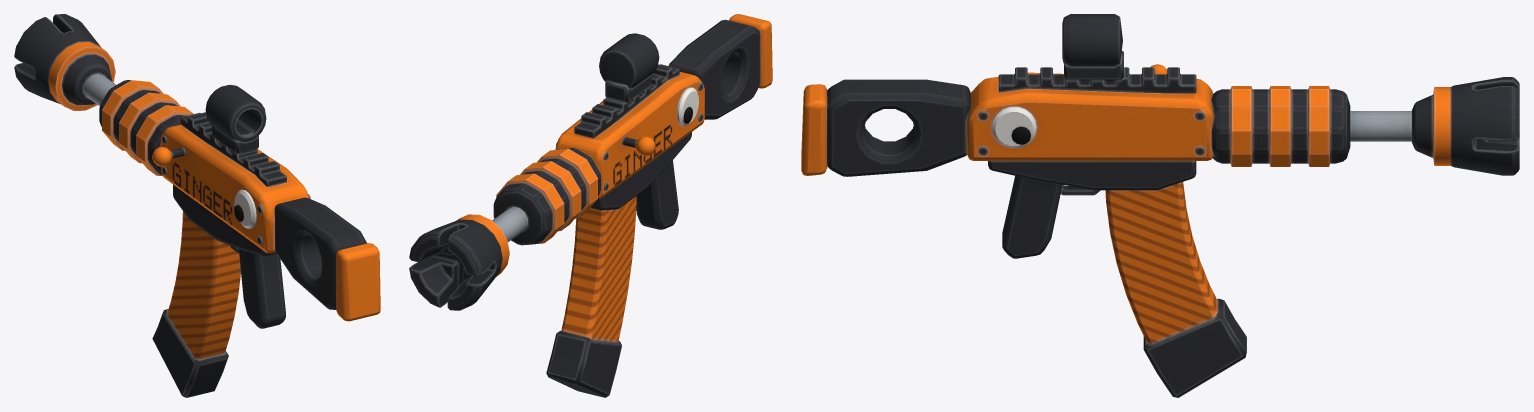
Rendered from ar_ginger.glb.
3 renders of one model, left to right at view 1: azimuth 30°, elevation 25°; view 2: azimuth 150°, elevation 25°; view 3: azimuth 270°, elevation 25°, orthographic. The views are drawn at different scales.
Parts seen in each view (by area): view 1: ar_ginger; view 2: ar_ginger; view 3: ar_ginger.
Part boxes in pixels (bbox=[...]): ar_ginger: bbox=[14, 14, 380, 397]; ar_ginger: bbox=[409, 14, 772, 397]; ar_ginger: bbox=[801, 14, 1519, 397].
Size of the model in its own units: 0.1685 by 0.5838 by 1.02.
Materials: 8 (8 with a texture image).
